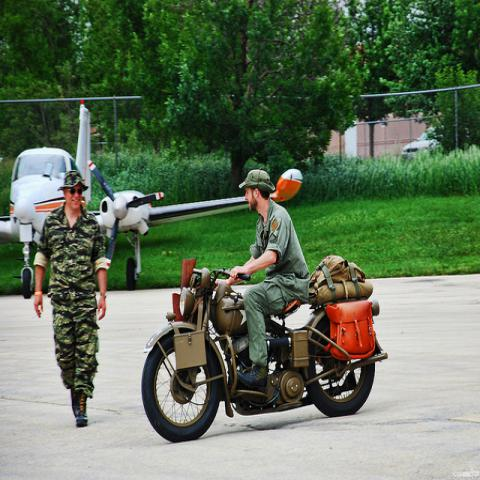car: (401, 127, 435, 158)
motorcycle: (142, 267, 388, 442)
